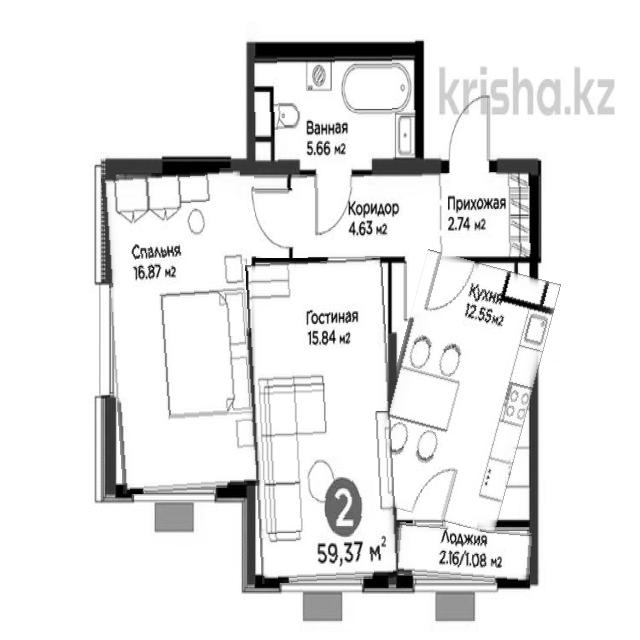bathroom: (249, 54, 420, 167)
hallway: (255, 173, 532, 257)
kitchen: (377, 256, 545, 527), (392, 525, 531, 583)
living_room: (107, 169, 256, 492), (249, 260, 394, 582)
